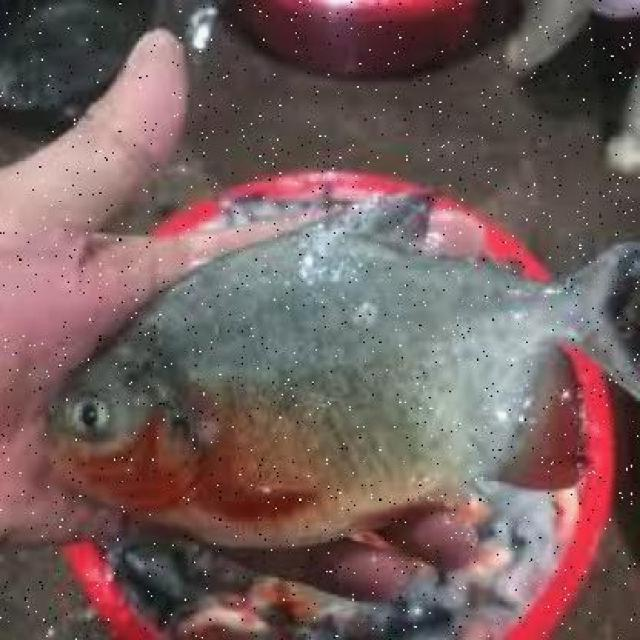ikan-pacu: (49, 207, 632, 538)
